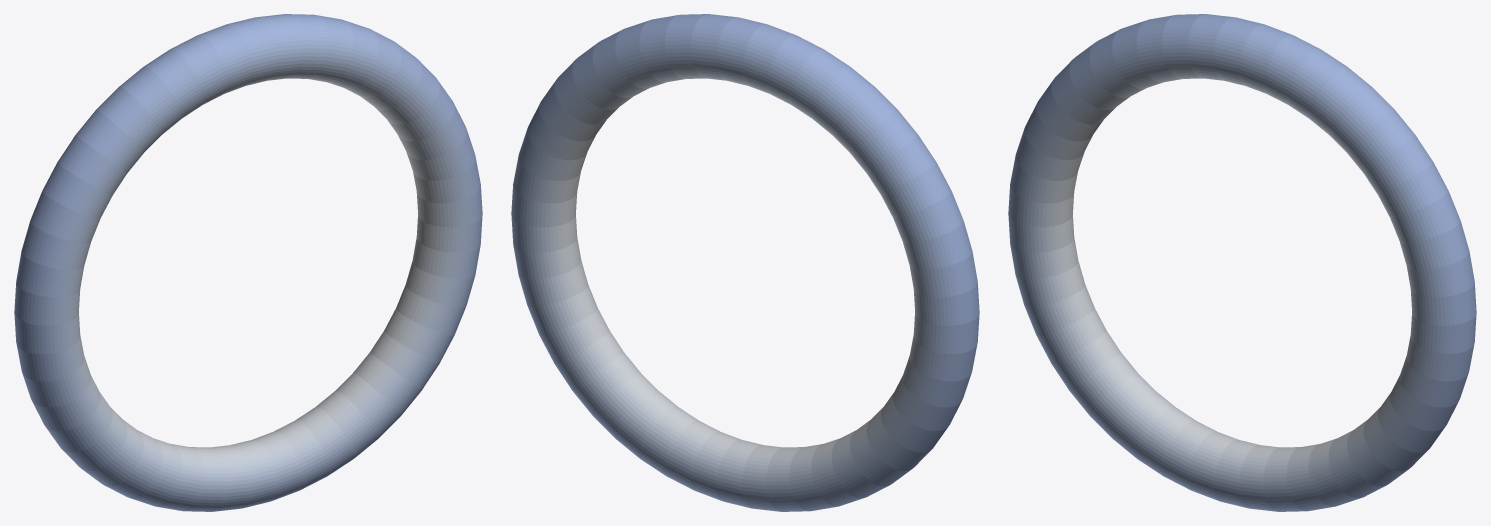
3 renders of one model, left to right at view 1: azimuth 30°, elevation 25°; view 2: azimuth 150°, elevation 25°; view 3: azimuth 330°, elevation 25°, orthographic.
Visible parts, largest first — view 1: world; view 2: world; view 3: world.
Boxes of the visible parts, x1,y1,x2,y2 form: world: [14, 14, 482, 511]; world: [511, 14, 979, 511]; world: [1008, 14, 1476, 511].
Bounding box in the file's own units: 29.6 × 29.54 × 3.59.
